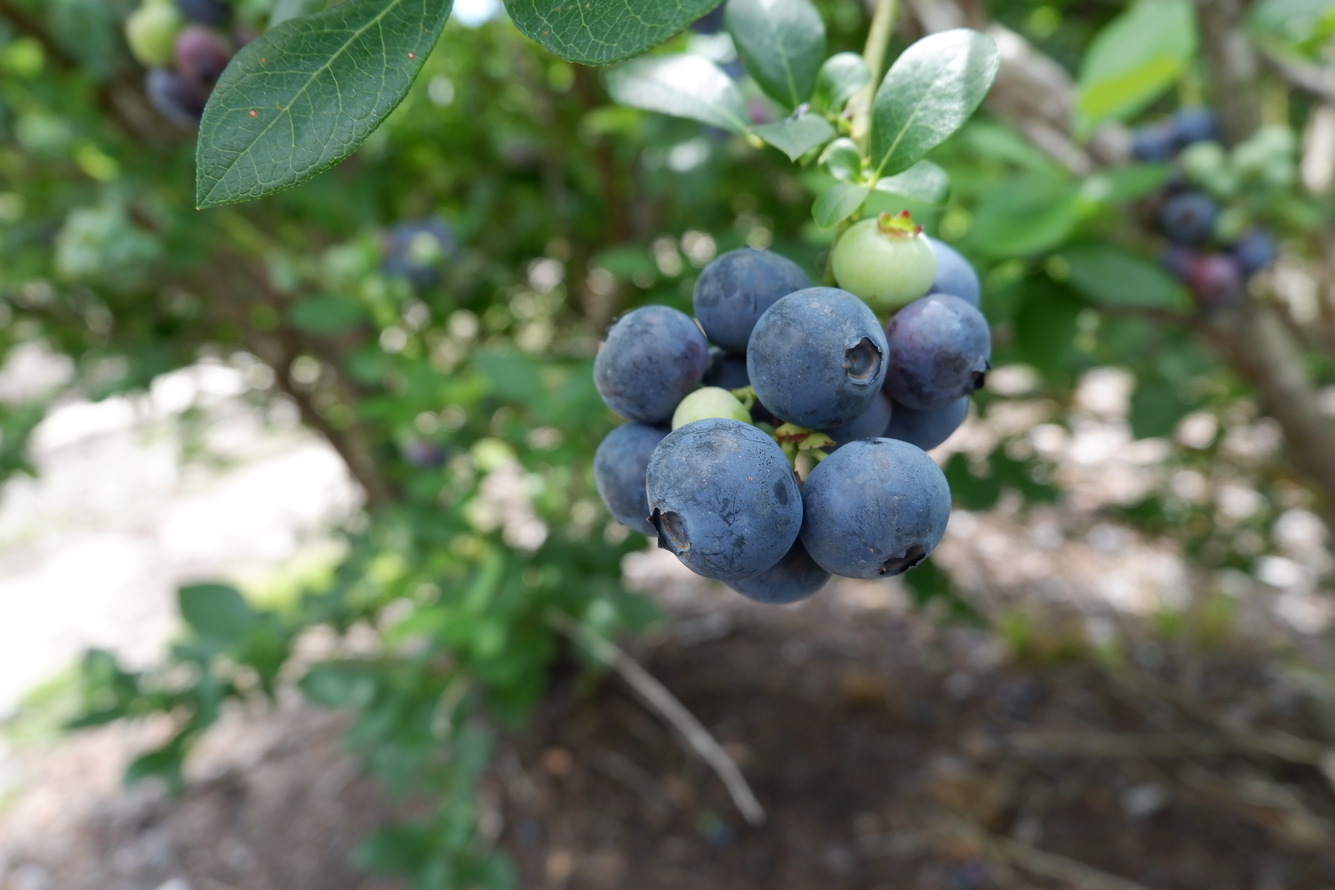Immature: (834, 213, 934, 316), (673, 389, 750, 427)
Mature: (644, 418, 801, 582), (804, 437, 952, 577), (748, 288, 886, 425), (595, 308, 706, 422), (886, 295, 990, 409), (696, 249, 808, 352), (595, 424, 665, 532), (728, 541, 828, 602), (883, 396, 968, 450), (819, 393, 891, 446), (928, 237, 979, 306), (707, 349, 750, 389)
